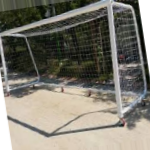goals: (1, 1, 147, 115)
